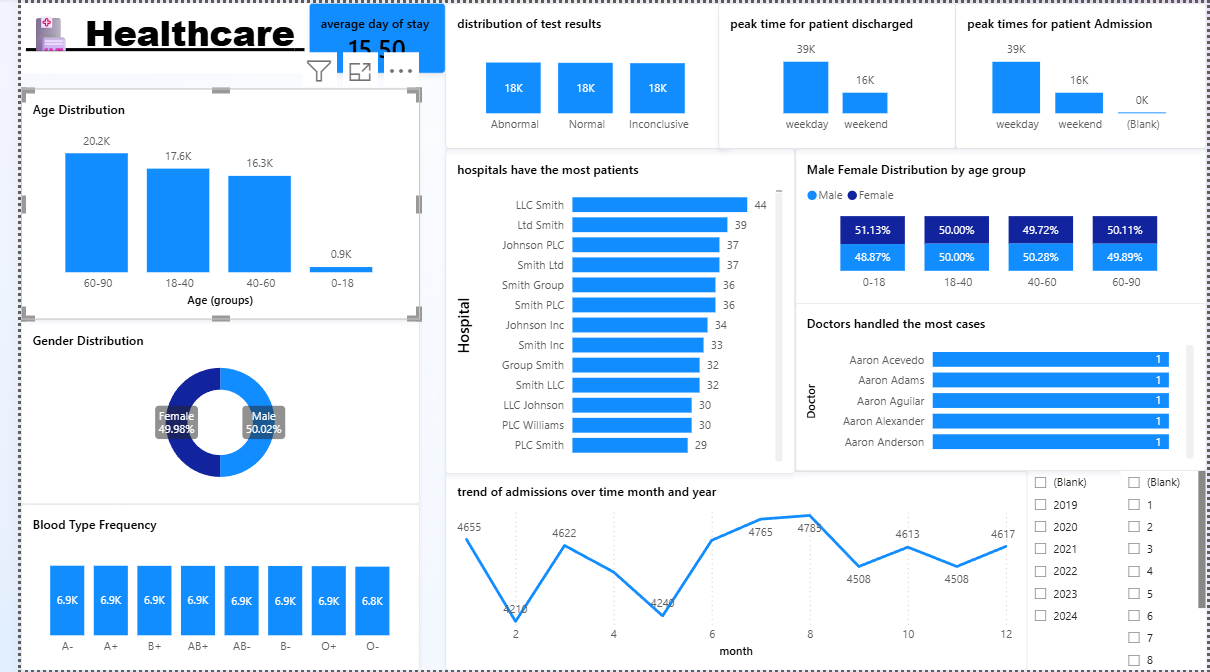

What the dashboard file says about the page in this screenshot:
{"tool":"powerbi","page":{"name":" Demographic Analysis and Hospital Admissions","canvas":[1280,720],"ordinal":0},"visuals":[{"type":"columnChart","title":"Age Distribution","fields":{"Category":["healthcare_dataset.Age (groups)"],"Y":["CountNonNull(healthcare_dataset.Name)"]},"box":[0,92.3,430.7,249.4],"z":0},{"type":"donutChart","title":"Gender Distribution","fields":{"Category":["healthcare_dataset.Gender"],"Y":["CountNonNull(healthcare_dataset.Name)"]},"box":[0,341.7,430.7,199.2],"z":1000},{"type":"columnChart","title":"Blood Type Frequency ","fields":{"Category":["healthcare_dataset.Blood Type"],"Y":["CountNonNull(healthcare_dataset.Name)"]},"box":[0,540.8,430.7,179.7],"z":2000},{"type":"hundredPercentStackedColumnChart","title":"Male Female Distribution by age group","fields":{"Category":["healthcare_dataset.Age (groups)"],"Y":["CountNonNull(healthcare_dataset.Name)"],"Series":["healthcare_dataset.Gender"]},"box":[835.5,157.1,443.7,170],"z":3000},{"type":"lineChart","title":"trend of admissions over time  month and year","fields":{"Y":["CountNonNull(healthcare_dataset.Name)"],"Category":["Admission_date.month"]},"box":[458.2,505.2,628.3,215.4],"z":4000},{"type":"slicer","fields":{"Values":["Admission_date.year"]},"box":[1086.5,505.2,100.4,215.4],"z":5000},{"type":"barChart","title":"Doctors handled the most cases","fields":{"Category":["healthcare_dataset.Doctor"],"Y":["CountNonNull(healthcare_dataset.Name)"]},"box":[835.5,323.8,443.7,181.4],"z":6000},{"type":"barChart","title":"hospitals have the most patients","fields":{"Category":["healthcare_dataset.Hospital"],"Y":["CountNonNull(healthcare_dataset.Name)"]},"box":[458.2,157.1,377.3,351.4],"z":7000},{"type":"textbox","box":[0,0,310.9,76.1],"z":8000},{"type":"card","title":"average day of stay","fields":{"Values":["Avg(healthcare_dataset.LengthOfStay)"]},"box":[310.9,0,147.3,76.1],"z":9000},{"type":"columnChart","title":" distribution of test results","fields":{"Category":["healthcare_dataset.Test Results"],"Y":["CountNonNull(healthcare_dataset.Name)"]},"box":[458.2,0,306,157.1],"z":10000},{"type":"columnChart","title":"peak time for patient discharged","fields":{"Category":["Discharge_date.weekend"],"Y":["CountNonNull(healthcare_dataset.Name)"]},"box":[752.9,0,255.8,157.1],"z":11000},{"type":"columnChart","title":"peak times for patient Admission","fields":{"Category":["Admission_date.weekend"],"Y":["CountNonNull(healthcare_dataset.Name)"]},"box":[1008.8,0,270.4,157.1],"z":12000},{"type":"slicer","fields":{"Values":["Admission_date.month"]},"box":[1186.9,505.2,92.3,215.4],"z":13000}]}

Visuals, with their boxes on the page's 1280x720 design canvas (x1, y1, x2, y2). These are canvas units, not pixel positions in the 1210x672 screenshot, which may show the page scaled, cropped or inside an application window:
"Age Distribution" columnChart: detection(0, 92, 431, 342)
"Gender Distribution" donutChart: detection(0, 342, 431, 541)
"Blood Type Frequency " columnChart: detection(0, 541, 431, 720)
"Male Female Distribution by age group" hundredPercentStackedColumnChart: detection(836, 157, 1279, 327)
"trend of admissions over time  month and year" lineChart: detection(458, 505, 1086, 721)
slicer - Admission_date.year: detection(1086, 505, 1187, 721)
"Doctors handled the most cases" barChart: detection(836, 324, 1279, 505)
"hospitals have the most patients" barChart: detection(458, 157, 836, 508)
textbox: detection(0, 0, 311, 76)
"average day of stay" card: detection(311, 0, 458, 76)
" distribution of test results" columnChart: detection(458, 0, 764, 157)
"peak time for patient discharged" columnChart: detection(753, 0, 1009, 157)
"peak times for patient Admission" columnChart: detection(1009, 0, 1279, 157)
slicer - Admission_date.month: detection(1187, 505, 1279, 721)
